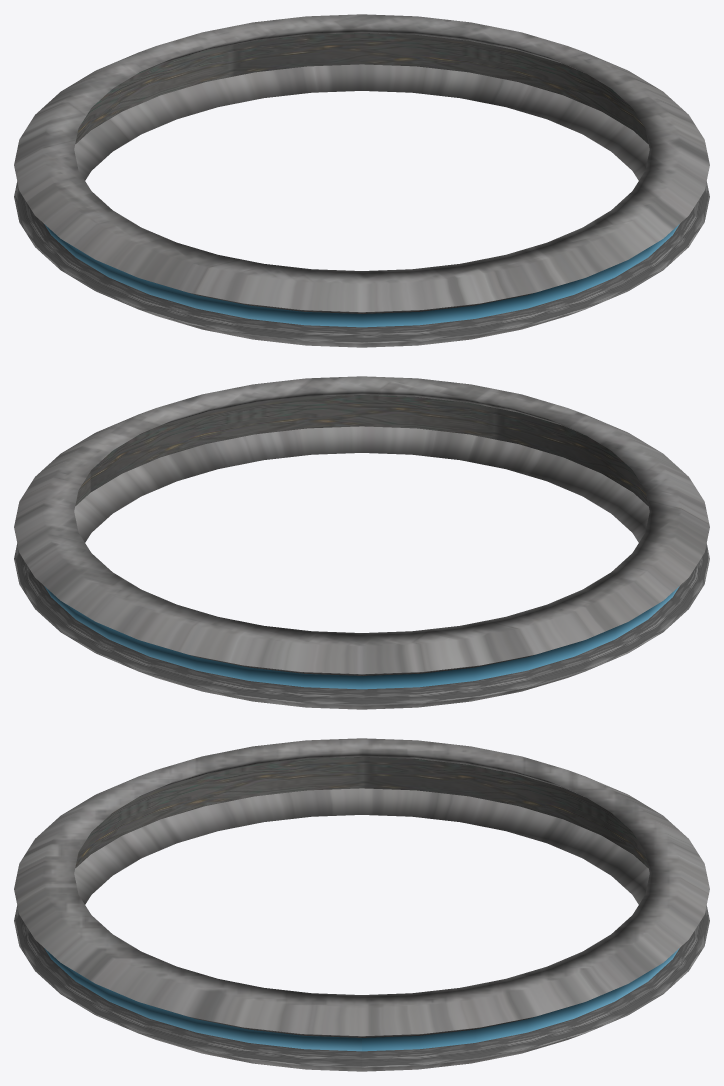
Rendered from Anneau De Soutien.FBX.
3 renders of one model, top to bottom at view 1: azimuth 30°, elevation 25°; view 2: azimuth 150°, elevation 25°; view 3: azimuth 270°, elevation 25°, orthographic.
Visible parts, largest first — view 1: Tube; view 2: Tube; view 3: Tube.
Part boxes in pixels (box(x1,y1,x2,y2)): Tube: box(14, 14, 709, 347); Tube: box(14, 376, 709, 709); Tube: box(14, 738, 709, 1071).
Size of the model in its own units: 2540 by 254 by 2540.
